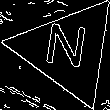N_S: (43, 23, 93, 78)
